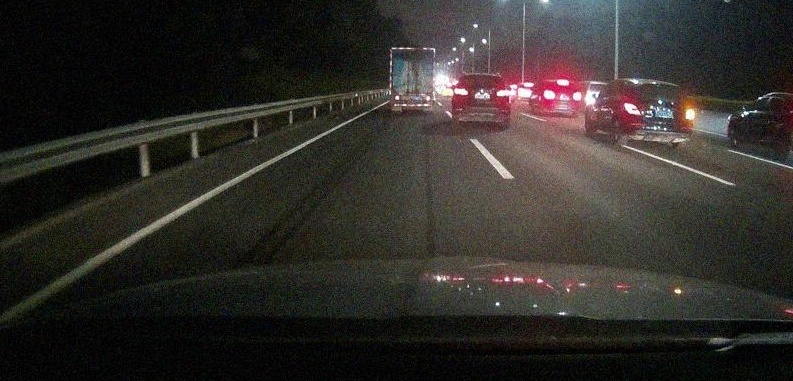L_light: (624, 102, 641, 116), (543, 89, 556, 100), (453, 87, 468, 96), (394, 95, 405, 101)
R_light: (496, 89, 510, 97), (572, 91, 582, 101), (685, 109, 694, 120), (420, 95, 431, 101)
T_light: (556, 79, 569, 86), (652, 87, 668, 90), (476, 75, 487, 77), (407, 49, 415, 51)
night-brake: (539, 78, 583, 116)
night-no: (452, 74, 510, 129), (389, 47, 435, 115)
night-right: (621, 80, 695, 147)
